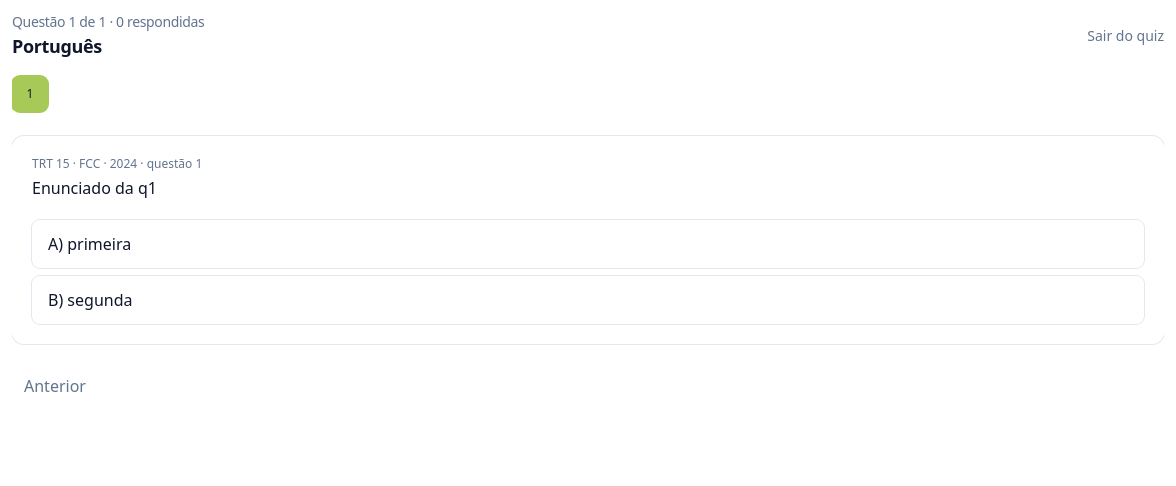
Test: QuizExecucaoComponent › com feedback imediato, revela o gabarito na questão errada
Click the button "B) segunda". click: (98,300)
box: [32,276,1144,324]
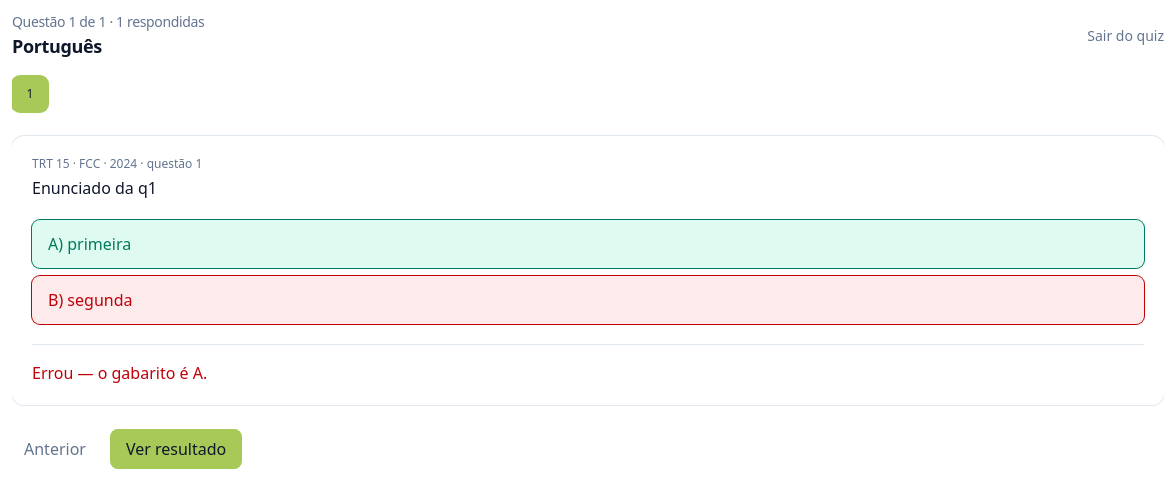
Result: the text "o gabarito é A" is shown at [32,362,207,384]
